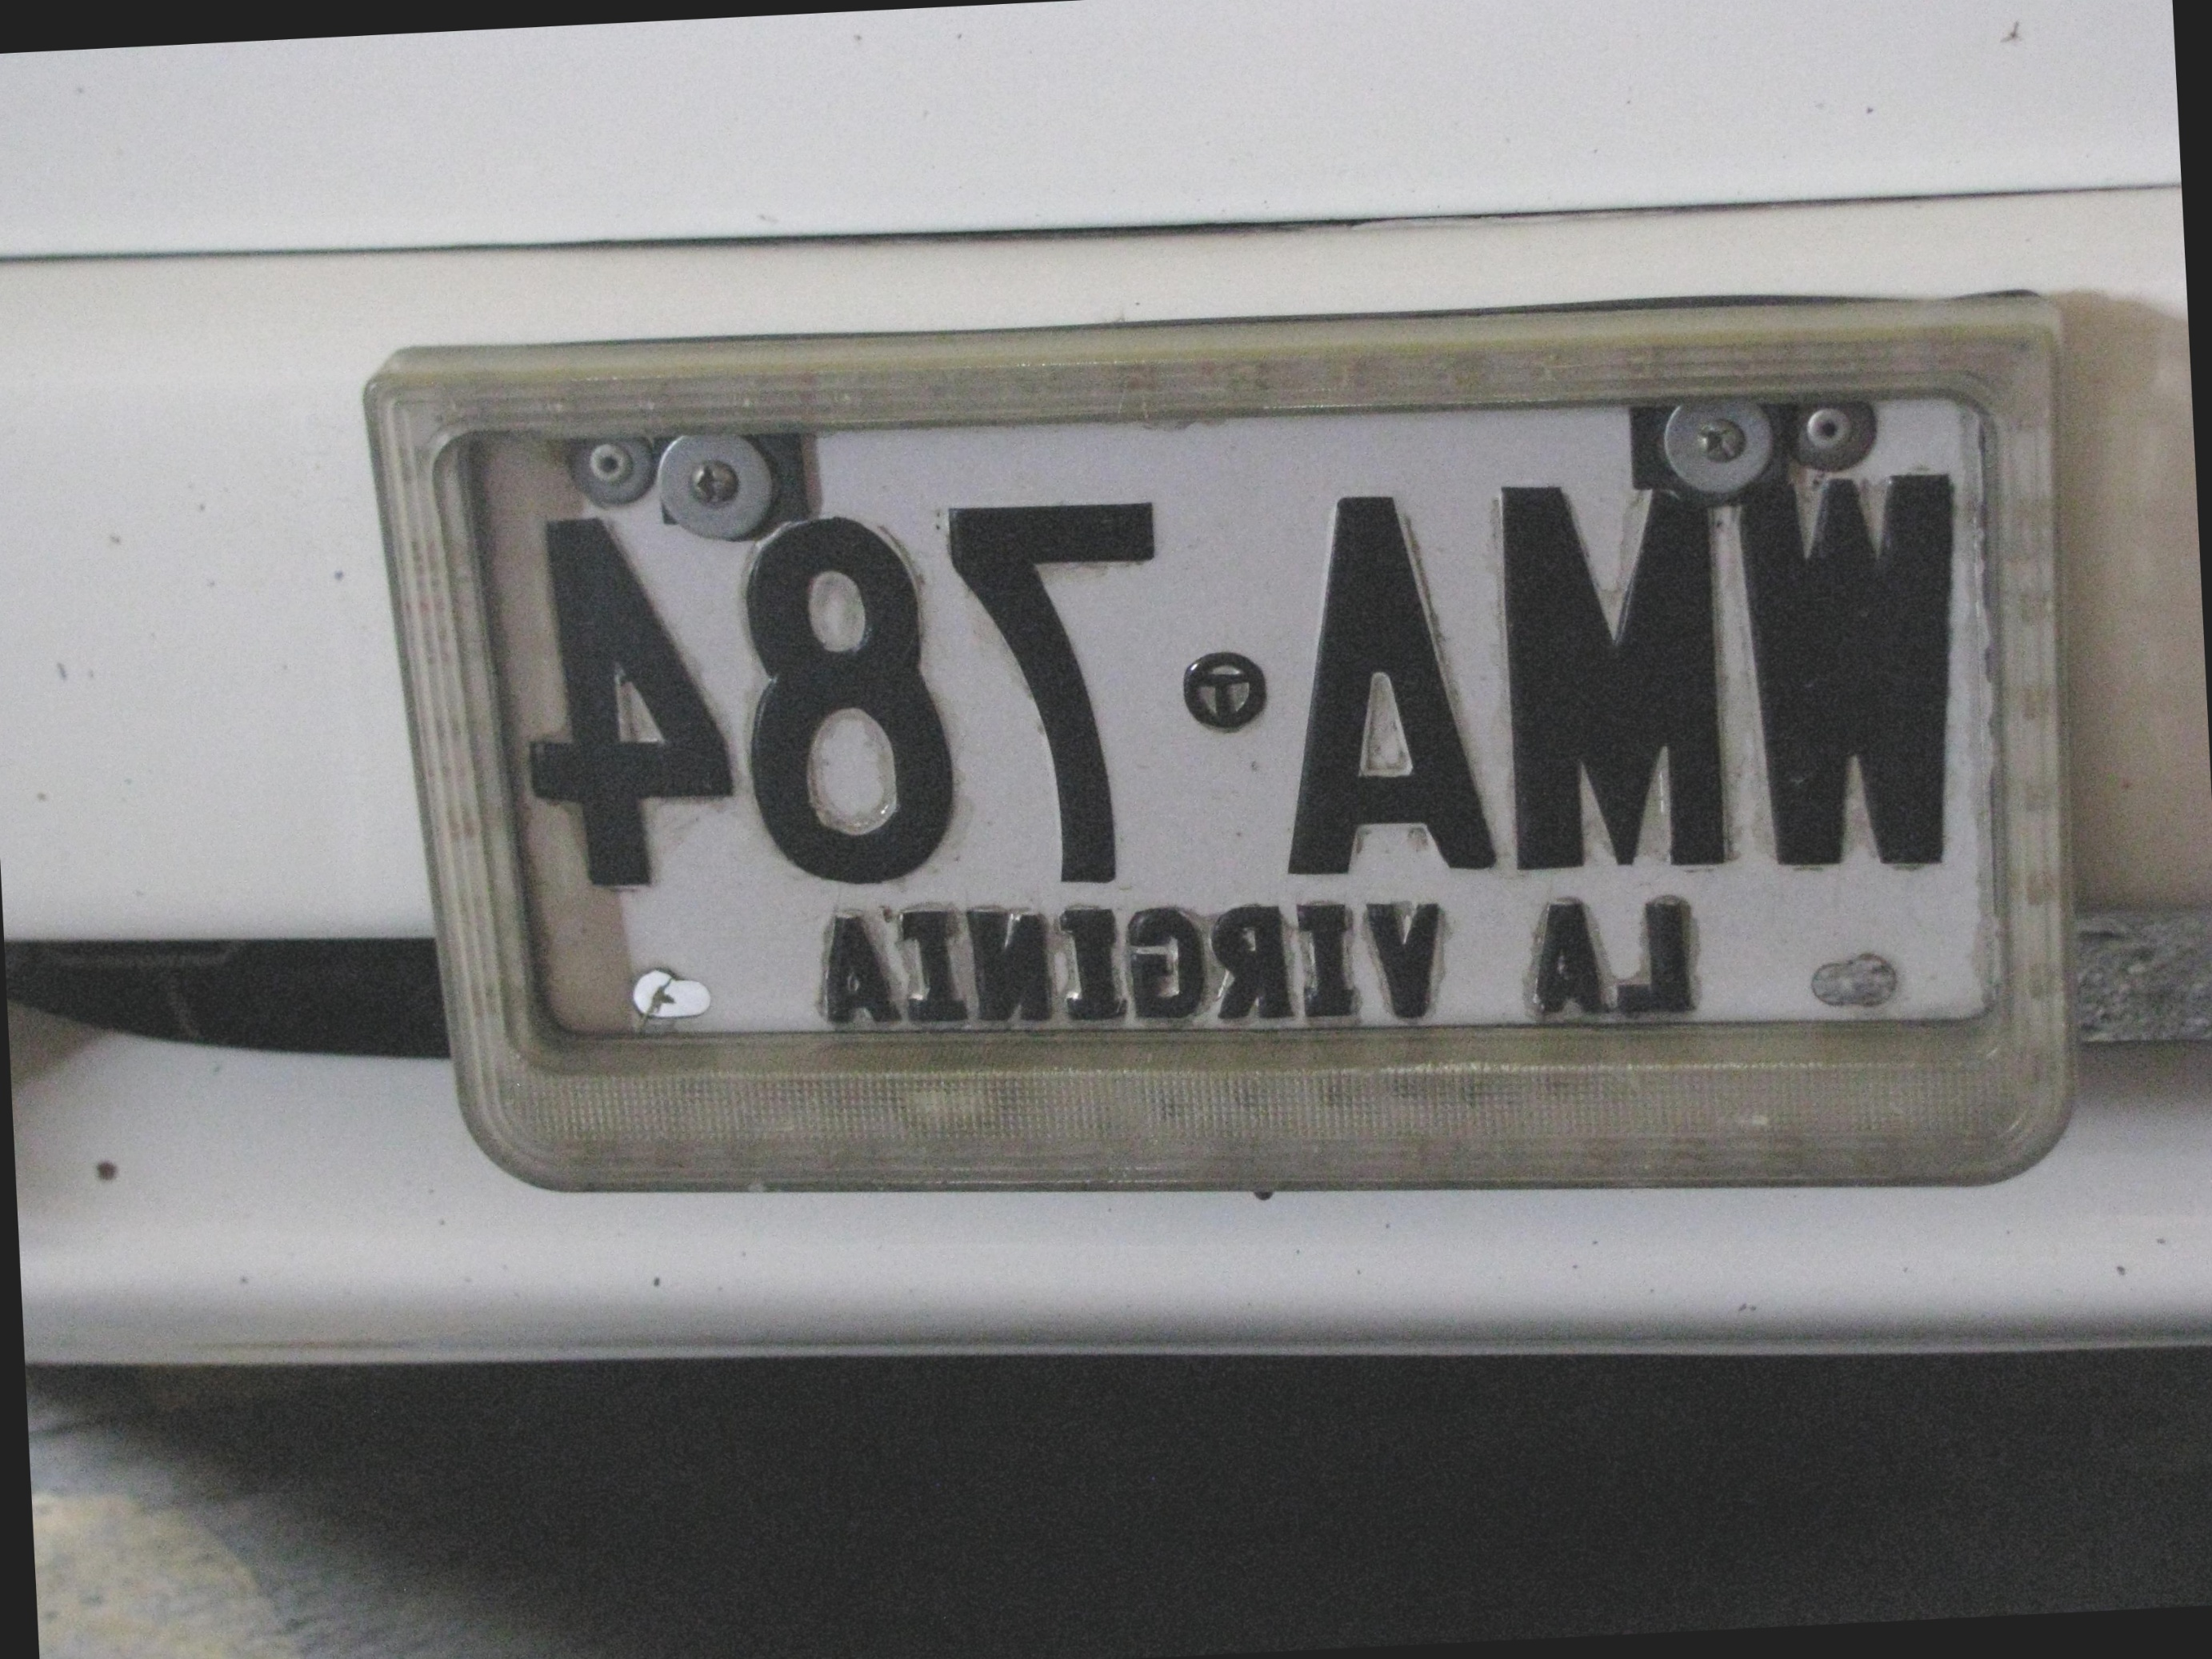placas: (356, 246, 2113, 1276)
